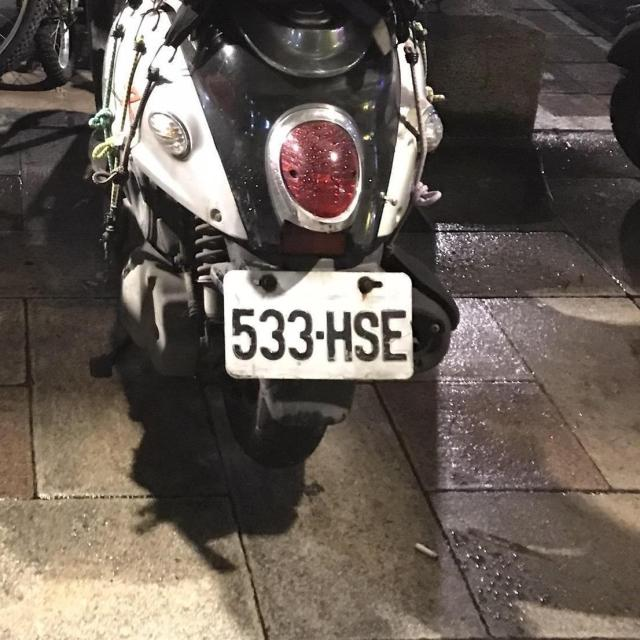W: (216, 258, 417, 388)
